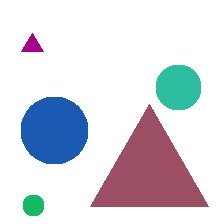circle: (21, 97, 87, 163), (156, 65, 200, 109), (23, 195, 43, 215)
triangle: (90, 104, 208, 206), (21, 33, 43, 51)
